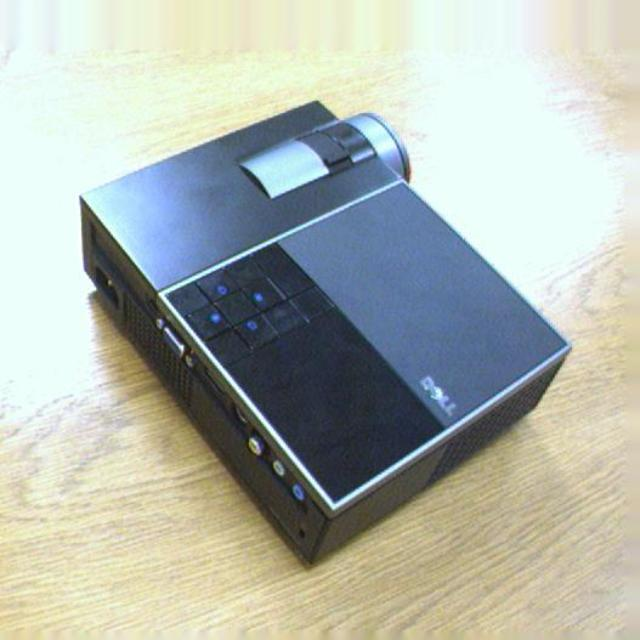Projector: (78, 95, 574, 563)
